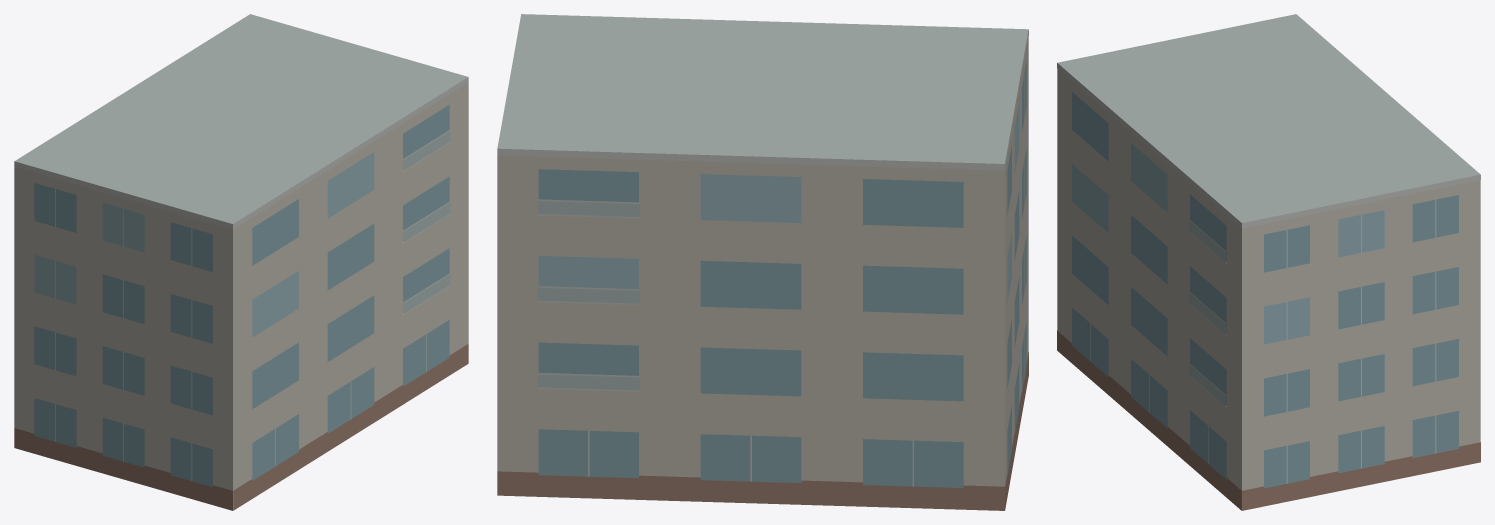
The model's file is survey-upis-32800751.glb.
3 renders of one model, left to right at view 1: azimuth 30°, elevation 25°; view 2: azimuth 150°, elevation 25°; view 3: azimuth 270°, elevation 25°, orthographic. The views are drawn at different scales.
Parts seen in each view (by area): view 1: survey-upis-32800751.tmp; view 2: survey-upis-32800751.tmp; view 3: survey-upis-32800751.tmp.
Boxes of the visible parts, box(x1,y1,x2,y2) form: survey-upis-32800751.tmp: box(14, 14, 468, 510); survey-upis-32800751.tmp: box(497, 14, 1028, 510); survey-upis-32800751.tmp: box(1057, 14, 1480, 510).
Size of the model in its own units: 19.96 by 12.8 by 17.08.
